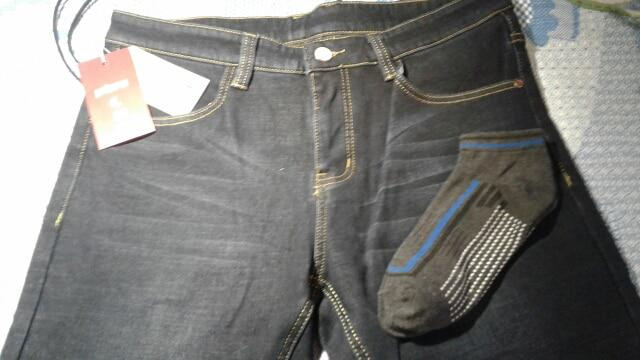jeans: (11, 6, 580, 360)
